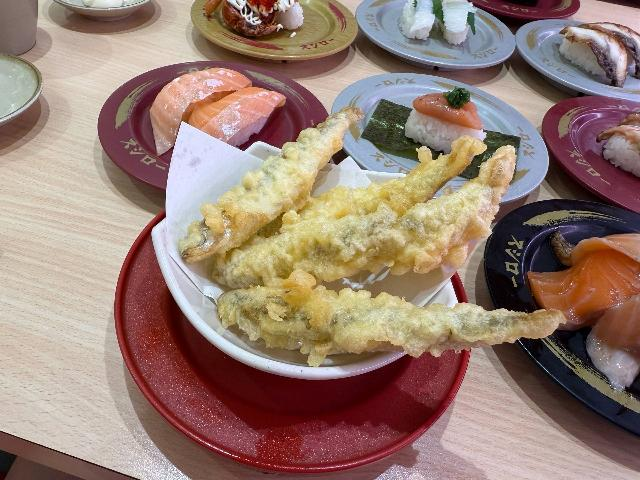janback: (489, 204, 640, 423)
jangold: (187, 0, 361, 72)
janred: (89, 221, 457, 459), (81, 68, 347, 177), (540, 105, 640, 192)
janwhite: (347, 51, 540, 208), (360, 0, 515, 79), (510, 11, 640, 101)
